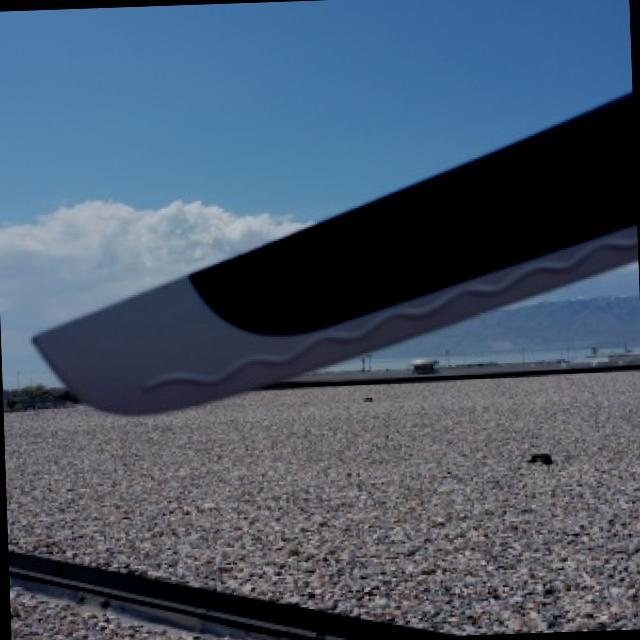healthy: (32, 91, 636, 410)
